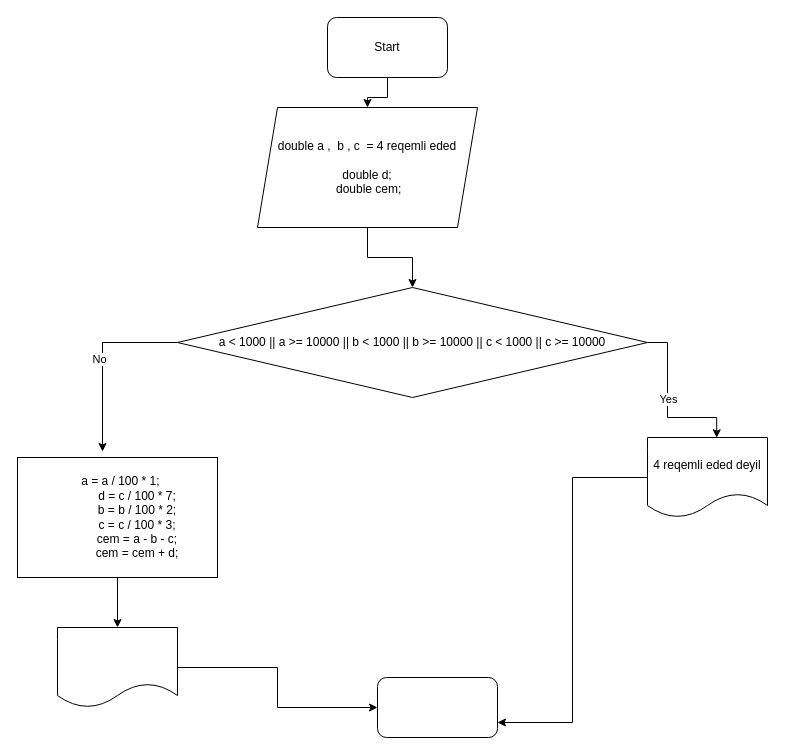
Some shapes in this 785 by 755 pixel diagram are drawn without their labels. The centre of each missing label's shape, as x and y in pixels:
"cem" belongs at point 117,667.
"End" belongs at point 437,707.
